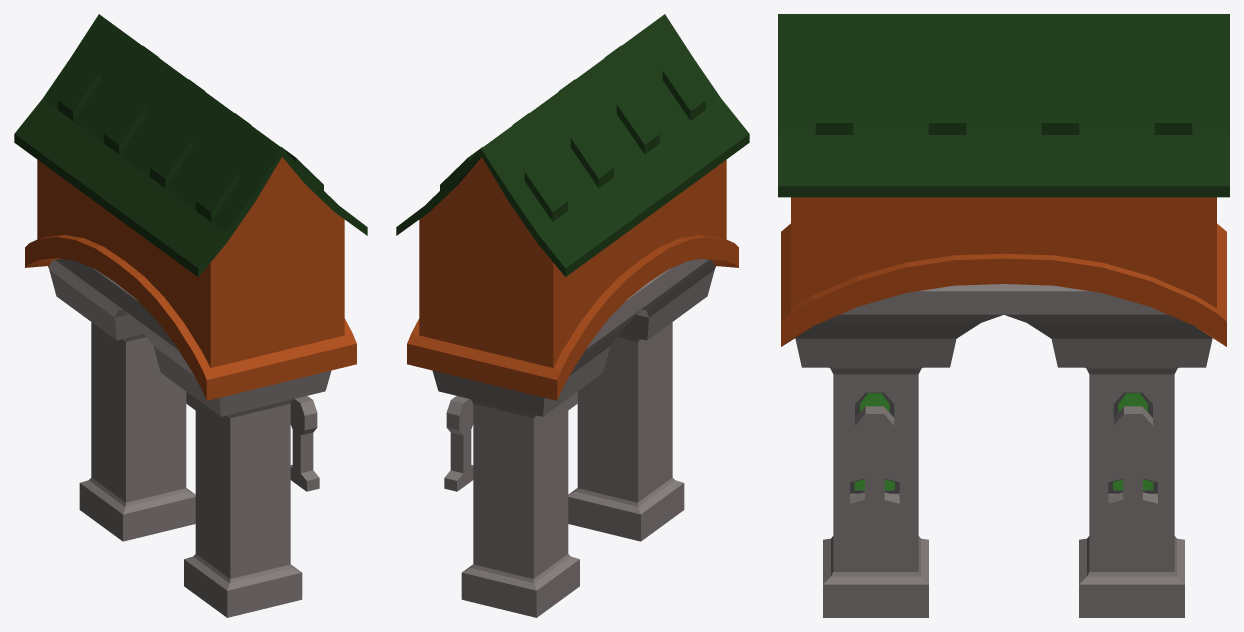
The model's file is Gatehouse TDP.fbx.
3 views of the same model, side by side, from view 1: azimuth 30°, elevation 25°; view 2: azimuth 150°, elevation 25°; view 3: azimuth 270°, elevation 25° (orthographic). The views are drawn at different scales.
Parts seen in each view (by area): view 1: Door, 2nd Level, Roof, Door Engraving; view 2: Door, 2nd Level, Roof, Door Engraving; view 3: Roof, Door, 2nd Level, Door Engraving.
Boxes of the visible parts, bbox=[...] form: Door: bbox=[48, 259, 331, 617]; 2nd Level: bbox=[25, 157, 356, 400]; Roof: bbox=[14, 14, 367, 277]; Door Engraving: bbox=[186, 392, 319, 491]; Door: bbox=[432, 259, 715, 617]; 2nd Level: bbox=[407, 157, 738, 400]; Roof: bbox=[396, 14, 749, 277]; Door Engraving: bbox=[444, 392, 577, 491]; Roof: bbox=[778, 14, 1229, 197]; Door: bbox=[795, 284, 1212, 617]; 2nd Level: bbox=[781, 197, 1226, 346]; Door Engraving: bbox=[850, 406, 1157, 516].
Bounding box in the file's own units: 562 × 1510 × 1059.
